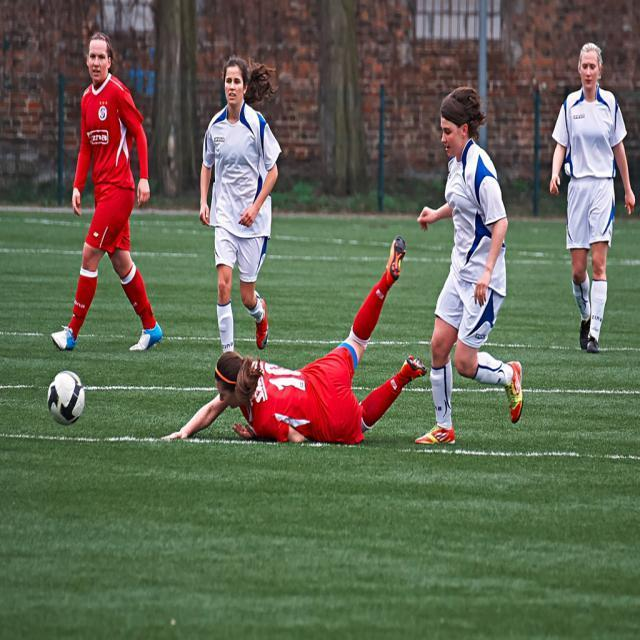football: (42, 358, 103, 432)
